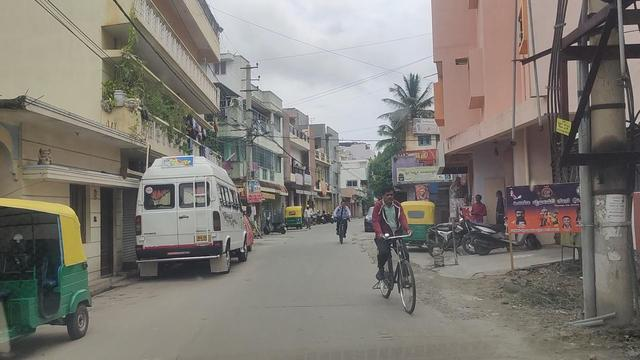HMV: (133, 155, 243, 269)
LMV: (371, 185, 415, 312)
RoadDamages: (430, 271, 489, 324)
